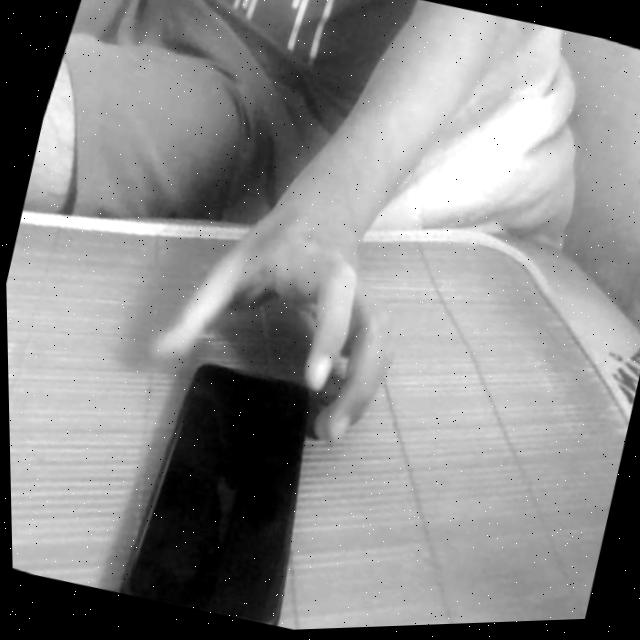phone: (85, 297, 379, 638)
